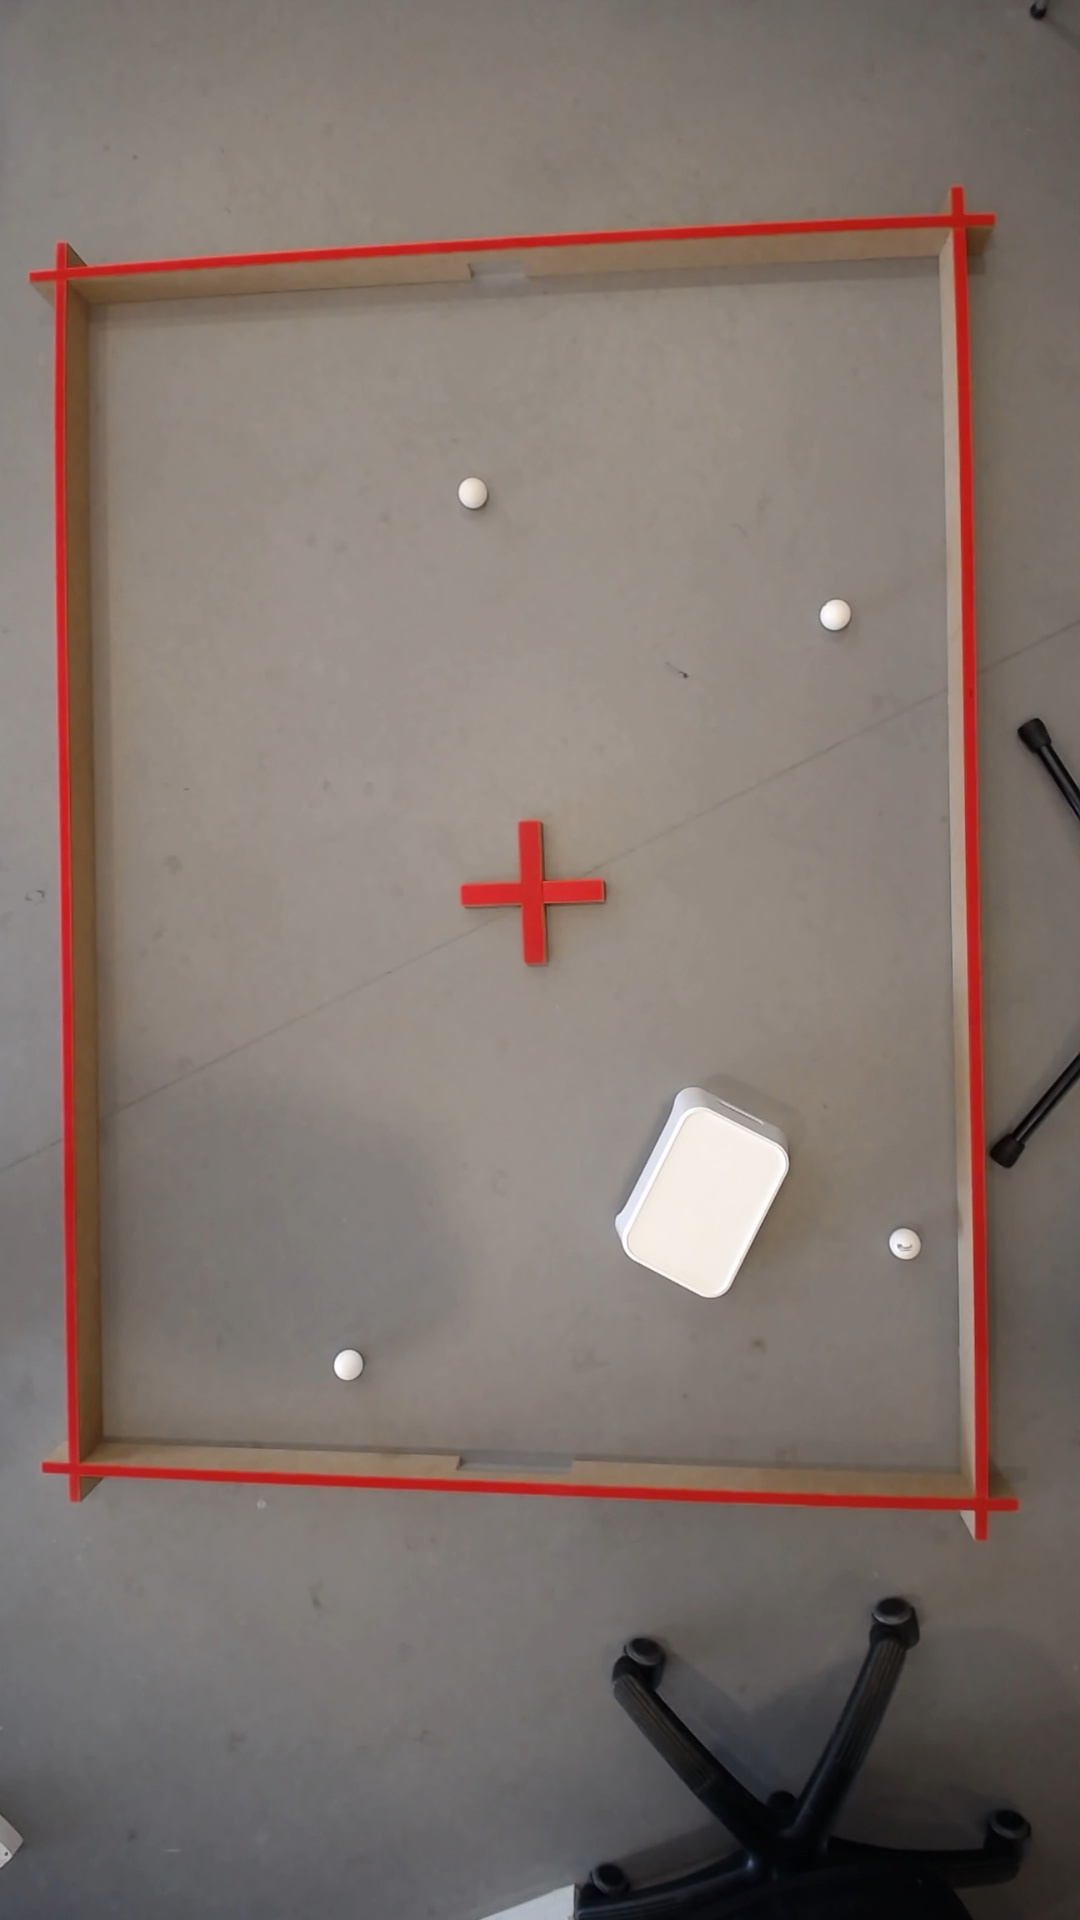balls: (600, 1089, 798, 1305), (884, 1224, 922, 1263), (815, 593, 851, 633), (327, 1344, 363, 1382)
car: (452, 472, 485, 509)
